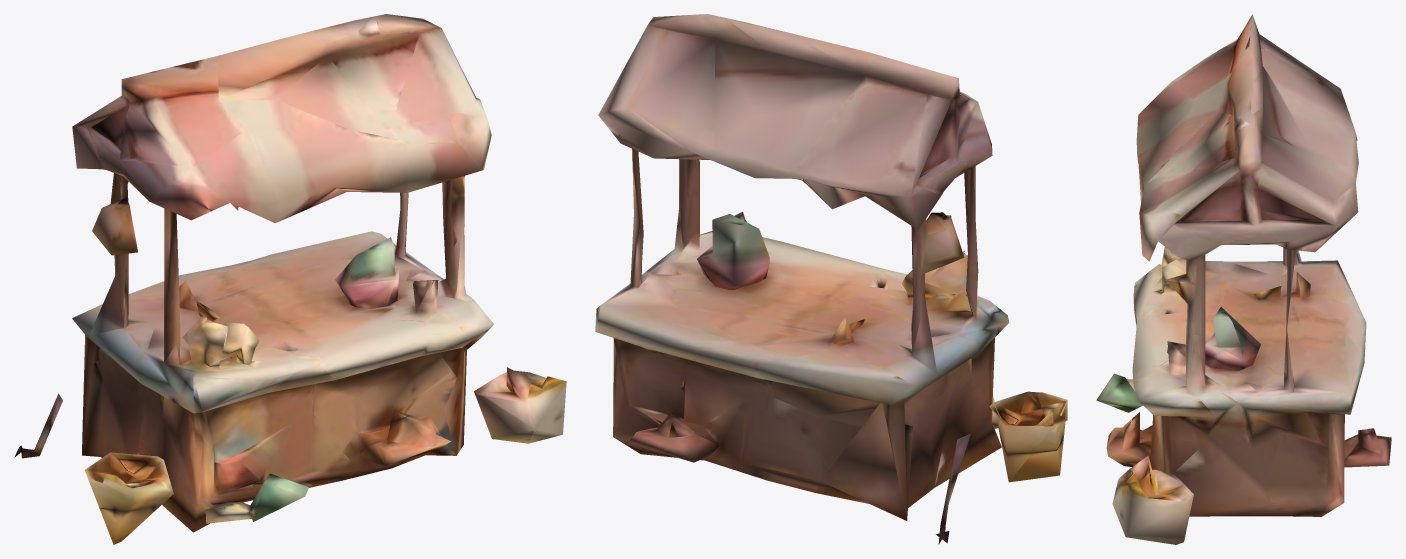
Rendered from market_stall.glb.
3 renders of one model, left to right at view 1: azimuth 30°, elevation 25°; view 2: azimuth 150°, elevation 25°; view 3: azimuth 270°, elevation 25°, orthographic. The views are drawn at different scales.
Parts seen in each view (by area): view 1: tripo_node_8b9e9ffa-8127-429f-aef4-13f4a51e8a39; view 2: tripo_node_8b9e9ffa-8127-429f-aef4-13f4a51e8a39; view 3: tripo_node_8b9e9ffa-8127-429f-aef4-13f4a51e8a39.
Boxes of the visible parts, x1,y1,x2,y2 form: tripo_node_8b9e9ffa-8127-429f-aef4-13f4a51e8a39: (14, 14, 566, 544); tripo_node_8b9e9ffa-8127-429f-aef4-13f4a51e8a39: (595, 14, 1067, 544); tripo_node_8b9e9ffa-8127-429f-aef4-13f4a51e8a39: (1096, 14, 1391, 544).
Size of the model in its own units: 0.9392 by 0.8498 by 0.5957.
1 material, 1 textured.
